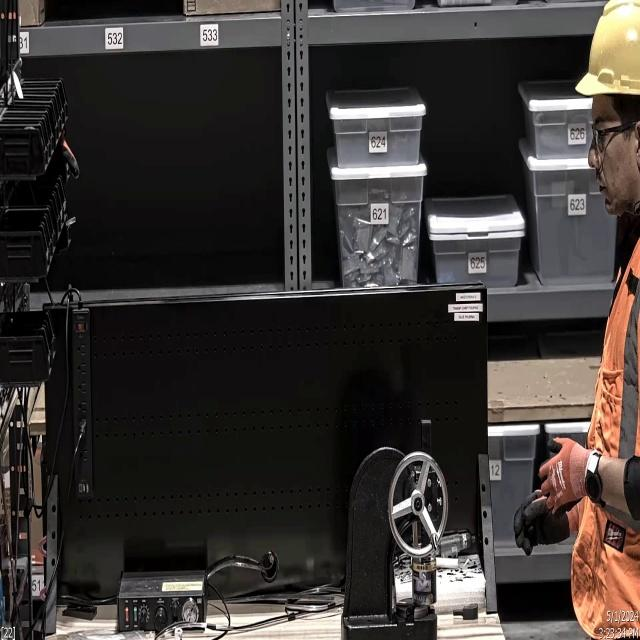gloves: (532, 436, 590, 520)
